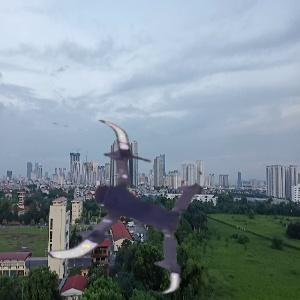drone: (39, 122, 208, 291)
